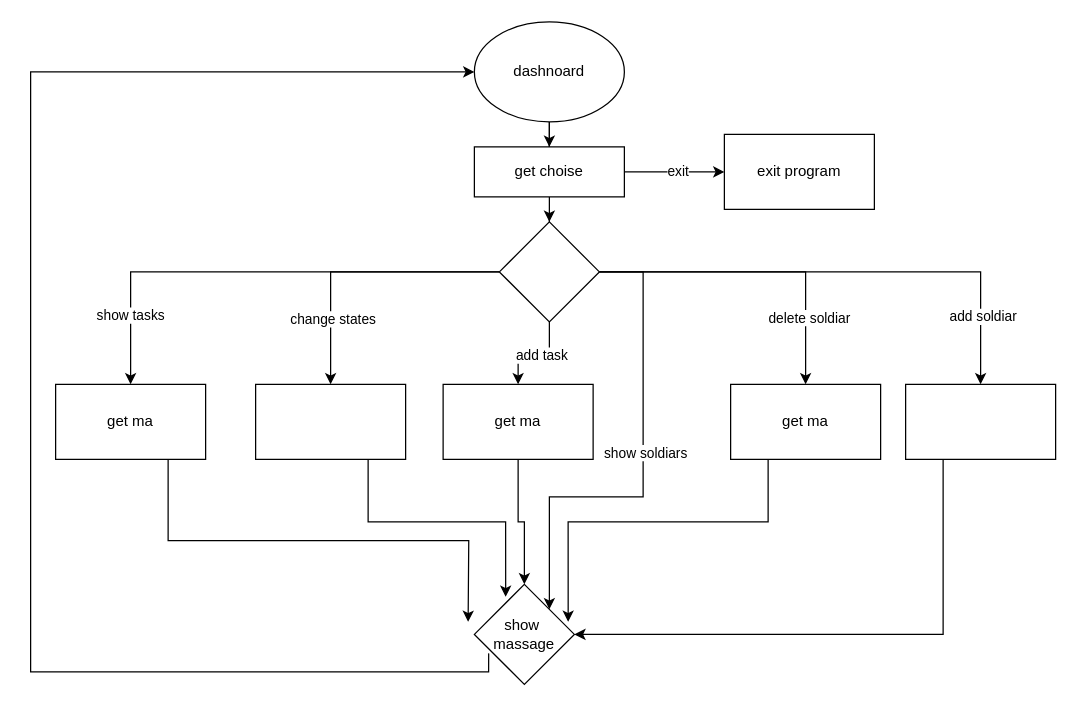
The diagram is 1078 pixels wide and 706 high, and some of its shapes have lost their labels. Here are the shapes that lost their labels. From the top down, the box of each, then its label:
(498, 221, 599, 322): choice
(254, 383, 406, 459): get ma, st
(904, 383, 1056, 459): get ma, name
